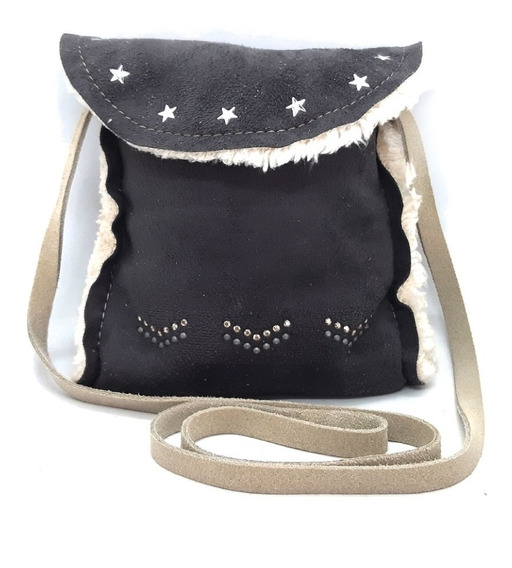cartera: (18, 28, 483, 406)
